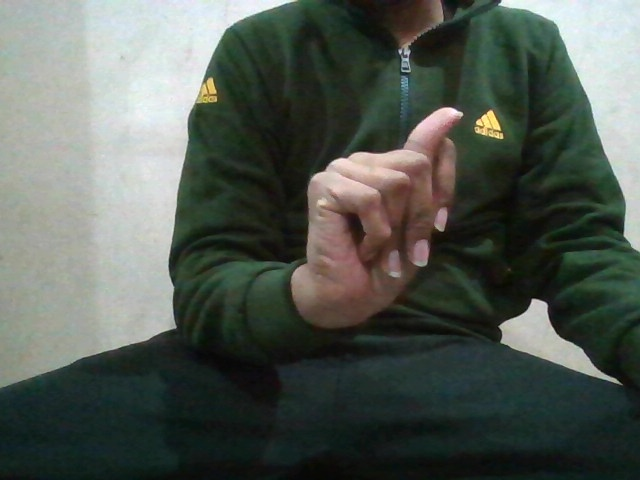T: (286, 104, 463, 318)
